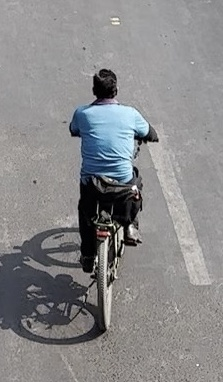BikeWithRider: (63, 63, 162, 335)
NoHelmet: (85, 64, 124, 105)
